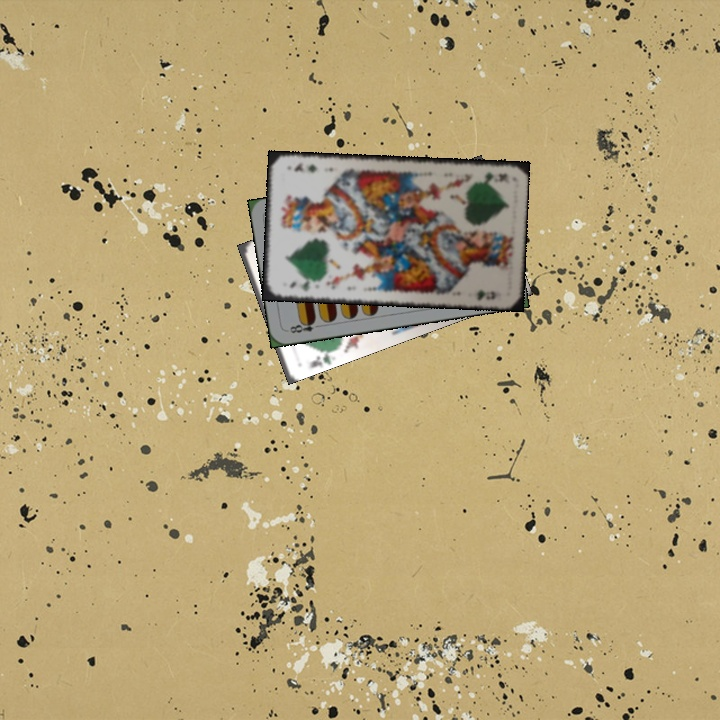E8: (286, 316, 324, 335)
GK: (306, 346, 335, 370), (480, 169, 512, 184), (285, 277, 313, 292)
